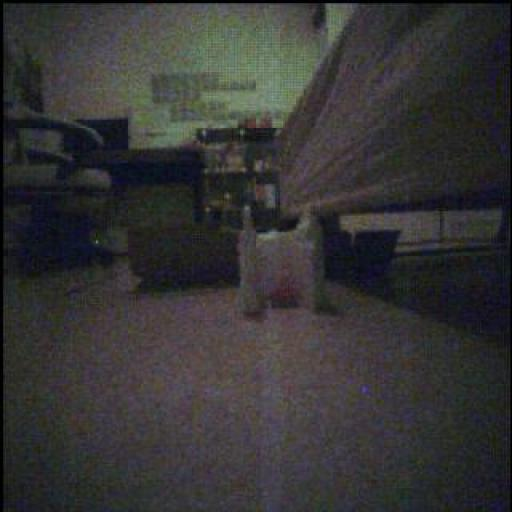basket: (266, 273, 300, 313)
